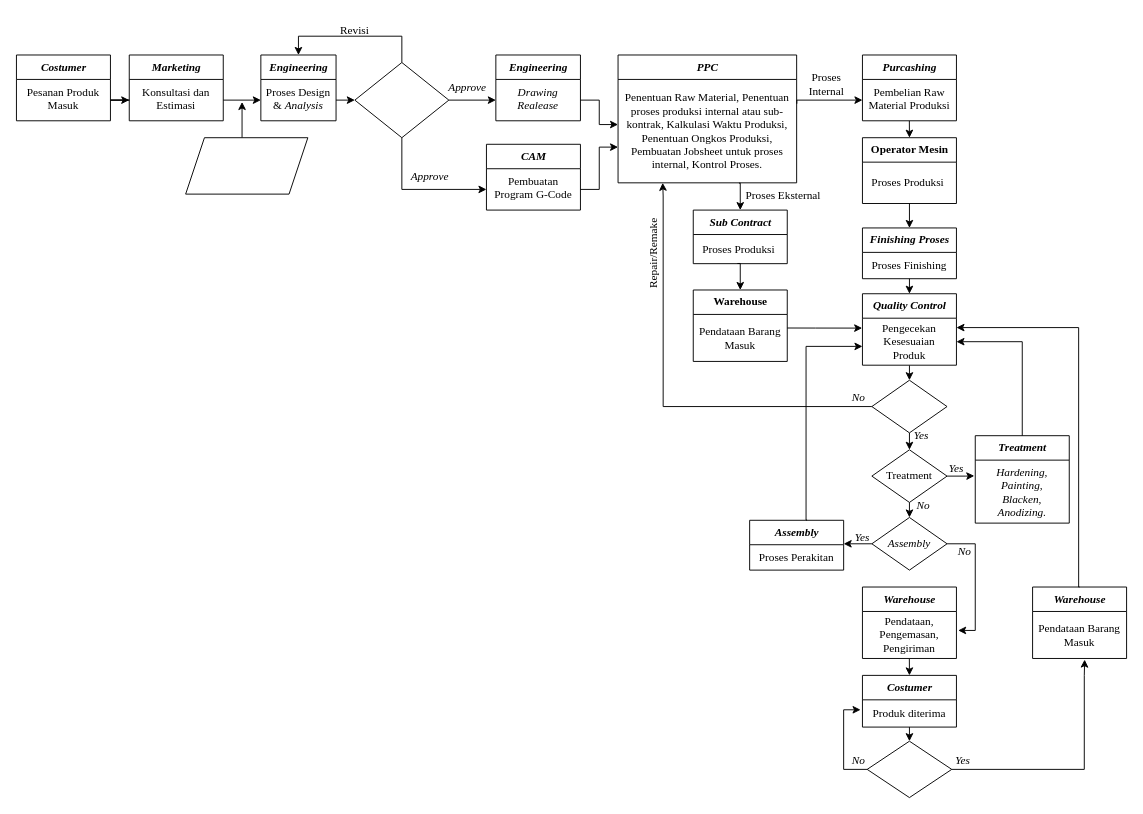
The diagram is 1143 pixels wide and 814 high, and some of its shapes have lost their labels. Each missing label, with the centre of its shape:
"Costumer Komplain" belongs at point (909, 769).
"Drawing/3D Model Request" belongs at point (246, 165).
"Persetujuan Costumer" belongs at point (401, 100).
"Produk Good" belongs at point (909, 406).
